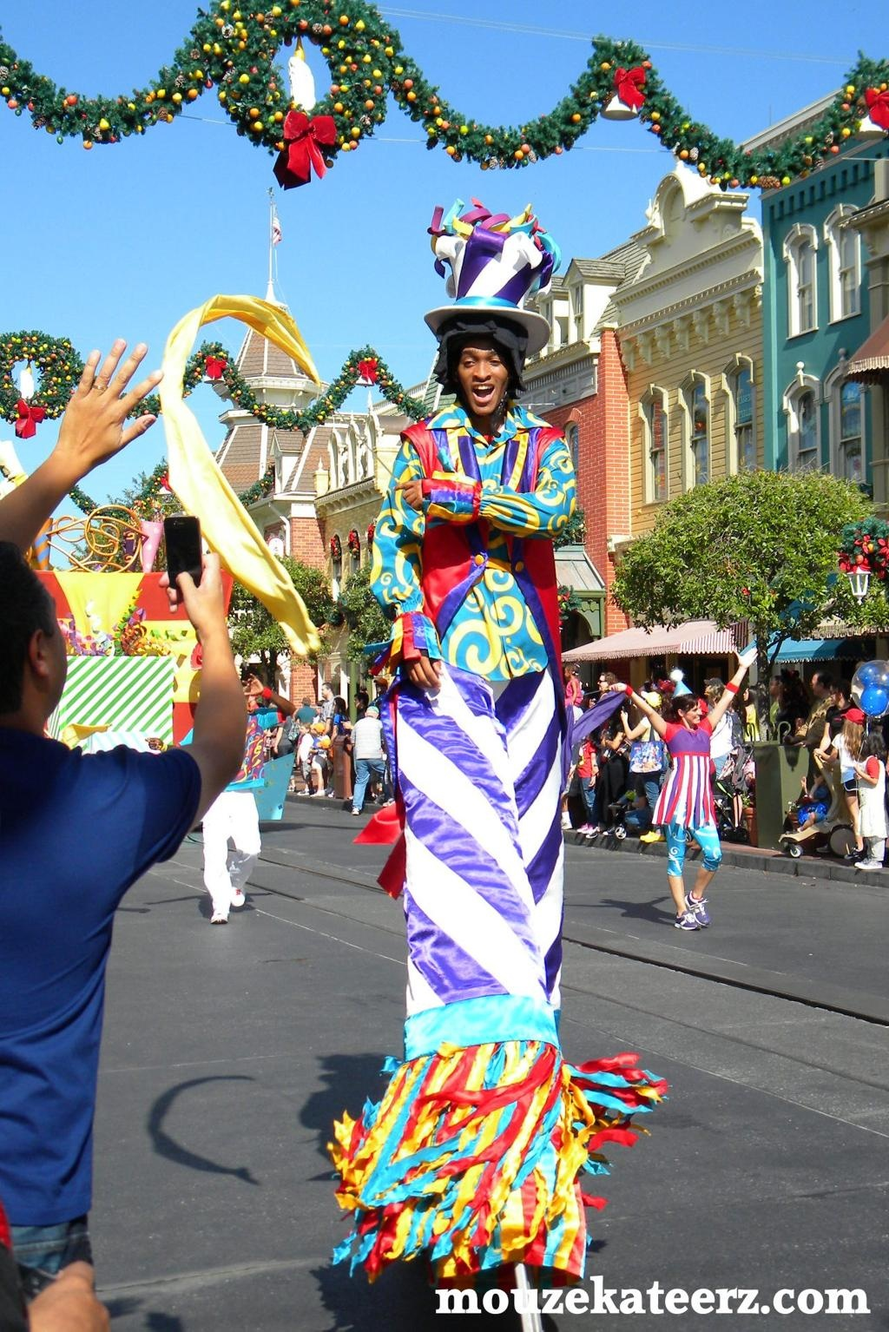human_face: (20, 555, 67, 718), (458, 337, 506, 415), (684, 702, 702, 724), (811, 673, 821, 696), (830, 688, 842, 703), (768, 678, 779, 694), (597, 675, 608, 690), (813, 773, 822, 785), (320, 685, 328, 696), (564, 666, 571, 678), (743, 688, 749, 700), (704, 682, 711, 692), (375, 682, 382, 692), (353, 697, 359, 705), (300, 725, 306, 732), (333, 701, 338, 709), (310, 729, 315, 734)
